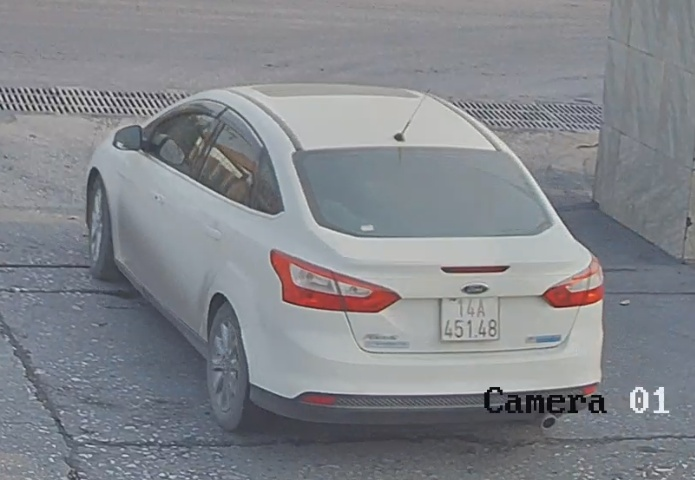vehicle plate: (438, 292, 506, 342)
